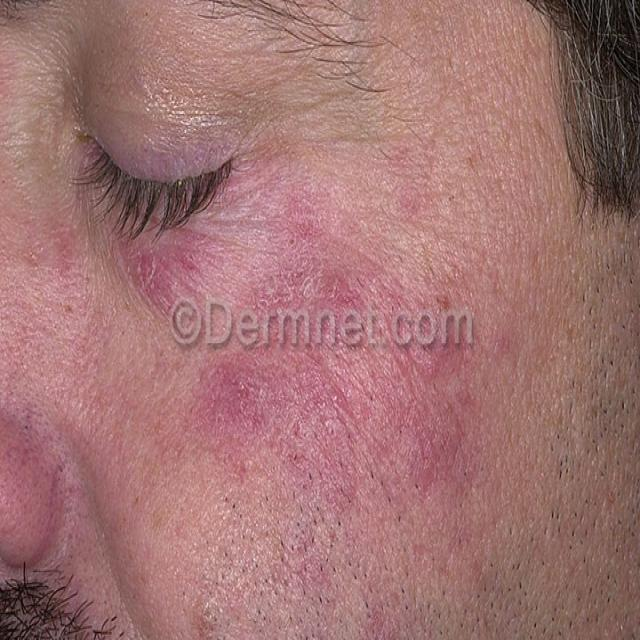acne: (4, 9, 640, 622)
